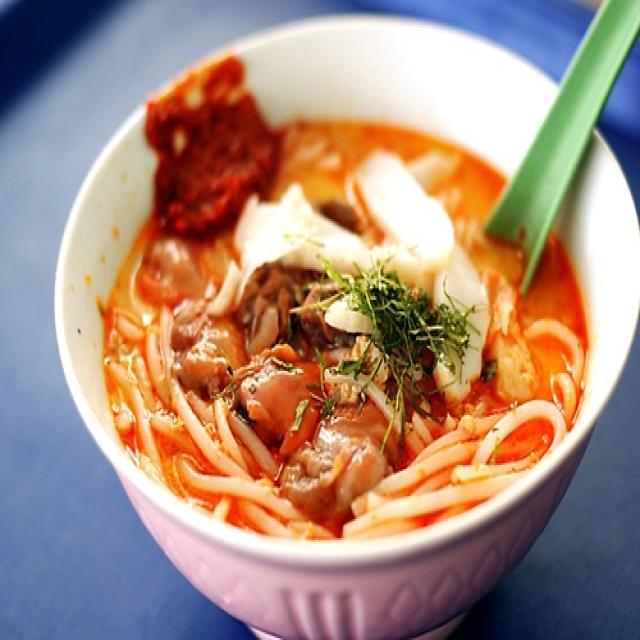面条主食: (64, 37, 631, 574)
